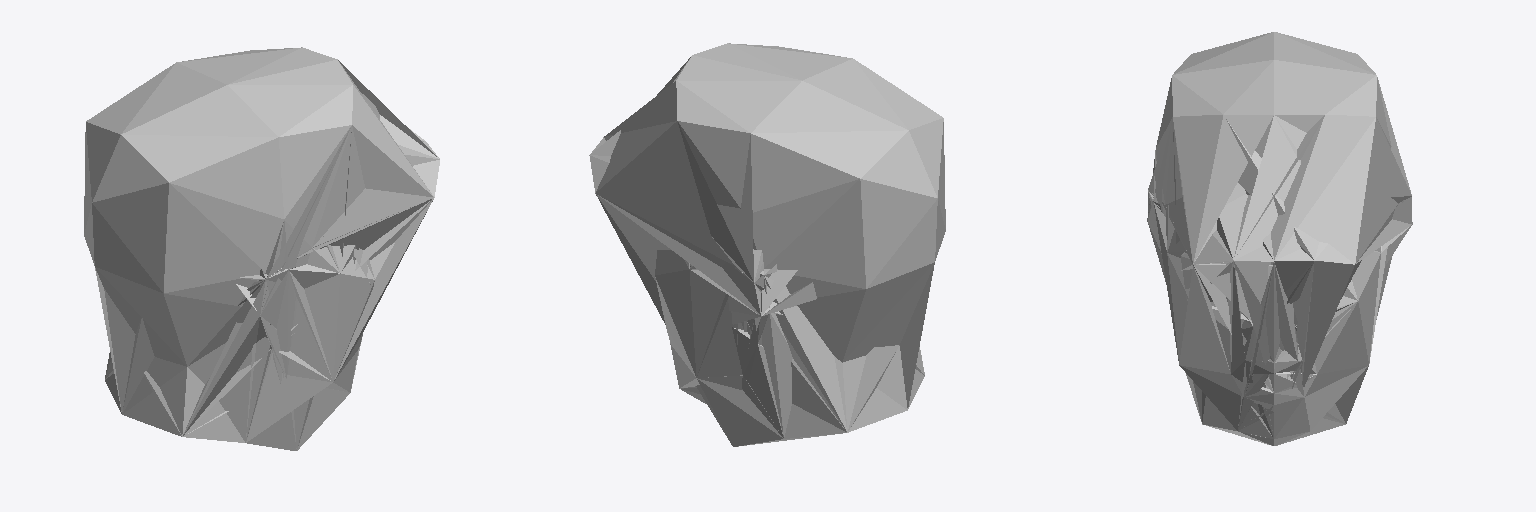
The model's file is face variants.obj.
3 renders of one model, left to right at view 1: azimuth 30°, elevation 25°; view 2: azimuth 150°, elevation 25°; view 3: azimuth 270°, elevation 25°, orthographic.
Parts seen in each view (by area): view 1: head, _left_foot; view 2: head, _left_foot; view 3: head, _left_foot.
Part boxes in pixels (x1,y1,x2,y2): head: (84,47,439,450); _left_foot: (188,144,439,442); head: (589,43,945,446); _left_foot: (698,313,846,436); head: (1147,32,1412,445); _left_foot: (1157,194,1392,436).
Bounding box in the file's own units: 9.93 × 10.28 × 6.83.